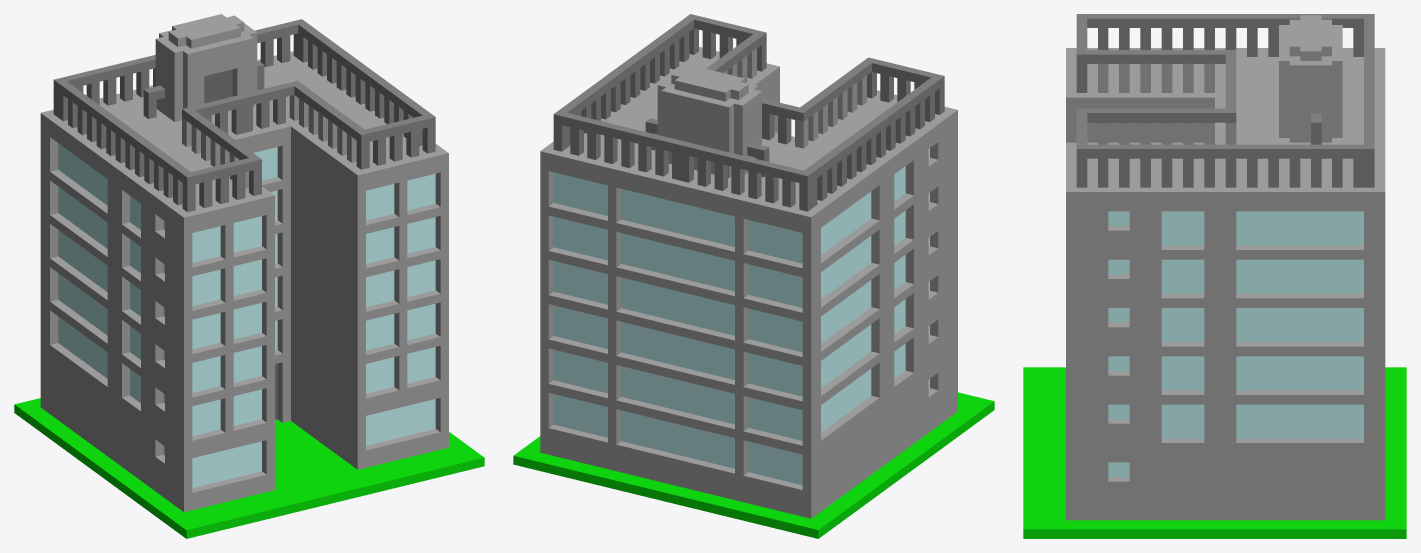
File: building_03.fbx
3 views of the same model, side by side, from view 1: azimuth 30°, elevation 25°; view 2: azimuth 150°, elevation 25°; view 3: azimuth 270°, elevation 25° (orthographic). The views are drawn at different scales.
Visible parts, largest first — view 1: building_03; view 2: building_03; view 3: building_03.
Part boxes in pixels (x1,y1,x2,y2): building_03: [14, 14, 484, 538]; building_03: [513, 14, 994, 538]; building_03: [1023, 14, 1406, 538].
Bounding box in the file's own units: 360 × 440 × 360.
1 material, 1 textured.
